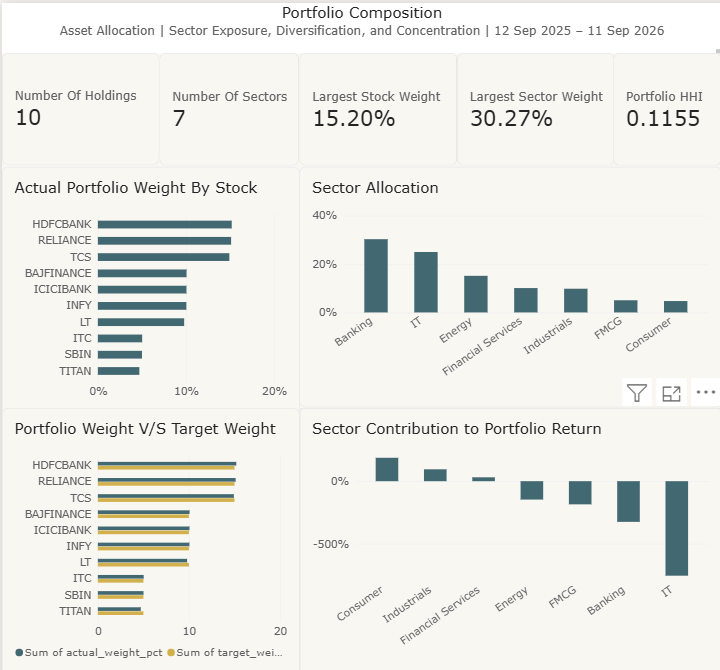

The dashboard page shown, as its layout file describes it:
{"tool":"powerbi","page":{"name":"Portfolio Composition","canvas":[1920,1080],"ordinal":2},"visuals":[{"type":"textbox","title":"Portfolio Composition","box":[0,0,960,67.4],"z":0},{"type":"cardVisual","fields":{"Data":["Sum(public vw_diversification_summary.number_of_stocks)"]},"box":[0,67.4,210.5,149.5],"z":1000},{"type":"cardVisual","fields":{"Data":["Sum(public vw_diversification_summary.number_of_sectors)"]},"box":[210.5,67.4,186.3,150.5],"z":2000},{"type":"cardVisual","fields":{"Data":["Sum(public vw_portfolio_weights.Largest Stock Weight)"]},"box":[396.8,67.4,210.5,150.5],"z":3000},{"type":"cardVisual","fields":{"Data":["public vw_portfolio_weights.Largest Sector Weight"]},"box":[607.4,66.3,210.5,150.5],"z":4000},{"type":"cardVisual","fields":{"Data":["Sum(public vw_portfolio_hhi.portfolio_hhi)"]},"box":[815.8,66.3,144.2,150.5],"z":5000},{"type":"clusteredBarChart","title":"Actual Portfolio Weight By Stock ","fields":{"Category":["public vw_portfolio_weights.symbol"],"Y":["Sum(public vw_portfolio_weights.actual_weight_pct)"]},"box":[0,217.9,396.8,329.5],"z":6000},{"type":"columnChart","title":"Sector Allocation","fields":{"Category":["public vw_portfolio_weights.sector"],"Y":["Sum(public vw_portfolio_weights.actual_weight_pct)"]},"box":[396.8,218.9,563.2,321.1],"z":7000},{"type":"clusteredBarChart","title":"Portfolio Weight V/S Target Weight","fields":{"Category":["public vw_portfolio_weights.symbol"],"Y":["Sum(public vw_portfolio_weights.actual_weight_pct)","Sum(public vw_portfolio_weights.target_weight_pct)"]},"box":[0,540,396.8,357.9],"z":8000},{"type":"columnChart","title":"Sector Contribution to Portfolio Return","fields":{"Category":["public vw_sector_analysis.sector"],"Y":["Sum(public vw_sector_analysis.portfolio_contribution_pct)"]},"box":[396.8,540,563.2,357.9],"z":9000}]}

Visuals, with their boxes on the page's 1920x1080 design canvas (x1, y1, x2, y2). These are canvas units, not pixel positions in the 720x670 screenshot, which may show the page scaled, cropped or inside an application window:
"Portfolio Composition" textbox: <bbox>0, 0, 960, 67</bbox>
cardVisual - Sum(public vw_diversification_summary.number_of_stocks): <bbox>0, 67, 210, 217</bbox>
cardVisual - Sum(public vw_diversification_summary.number_of_sectors): <bbox>210, 67, 397, 218</bbox>
cardVisual - Sum(public vw_portfolio_weights.Largest Stock Weight): <bbox>397, 67, 607, 218</bbox>
cardVisual - public vw_portfolio_weights.Largest Sector Weight: <bbox>607, 66, 818, 217</bbox>
cardVisual - Sum(public vw_portfolio_hhi.portfolio_hhi): <bbox>816, 66, 960, 217</bbox>
"Actual Portfolio Weight By Stock " clusteredBarChart: <bbox>0, 218, 397, 547</bbox>
"Sector Allocation" columnChart: <bbox>397, 219, 960, 540</bbox>
"Portfolio Weight V/S Target Weight" clusteredBarChart: <bbox>0, 540, 397, 898</bbox>
"Sector Contribution to Portfolio Return" columnChart: <bbox>397, 540, 960, 898</bbox>
